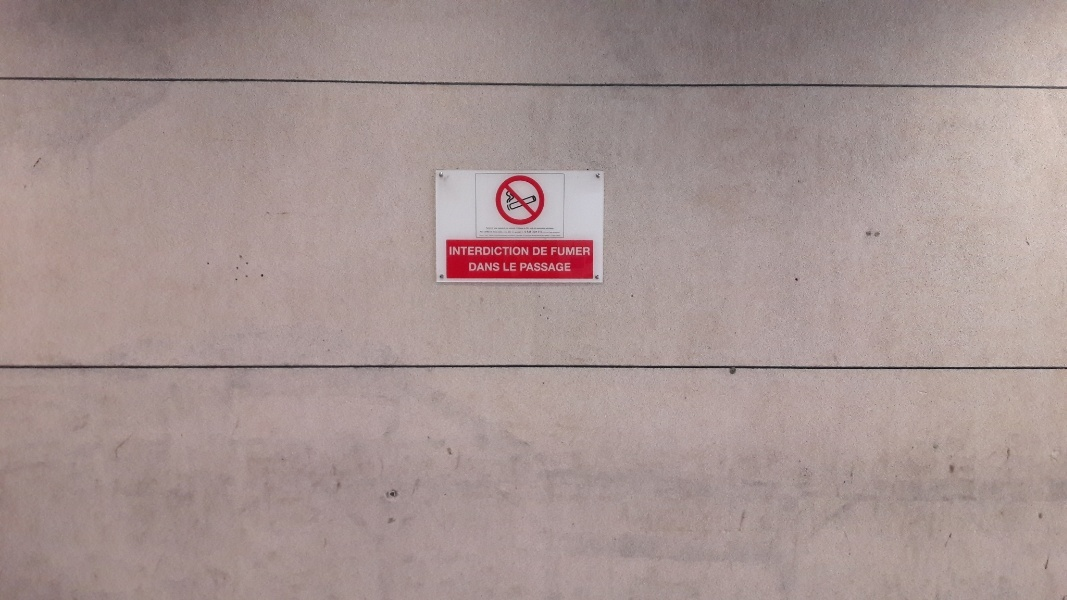text: (561, 246, 576, 257), (577, 246, 592, 257), (481, 261, 496, 272), (529, 262, 544, 273), (545, 262, 560, 273), (449, 246, 464, 256), (465, 246, 480, 256), (481, 246, 496, 256), (497, 246, 512, 256), (513, 246, 528, 256), (468, 261, 480, 272), (561, 262, 573, 273), (532, 246, 544, 256), (551, 246, 560, 257), (520, 262, 528, 273), (504, 262, 512, 272), (481, 229, 496, 234), (497, 229, 512, 234), (513, 229, 528, 234), (529, 229, 544, 234), (545, 229, 560, 234), (481, 234, 496, 239), (497, 234, 512, 239), (513, 234, 528, 239), (529, 234, 544, 239), (545, 234, 560, 239), (497, 226, 512, 230), (513, 226, 528, 230), (529, 226, 544, 230), (513, 262, 518, 272), (484, 226, 496, 230), (545, 226, 557, 230), (497, 261, 501, 272), (545, 246, 549, 256), (529, 246, 531, 256), (561, 234, 564, 239), (561, 229, 563, 234), (479, 229, 480, 234), (479, 234, 480, 239)
